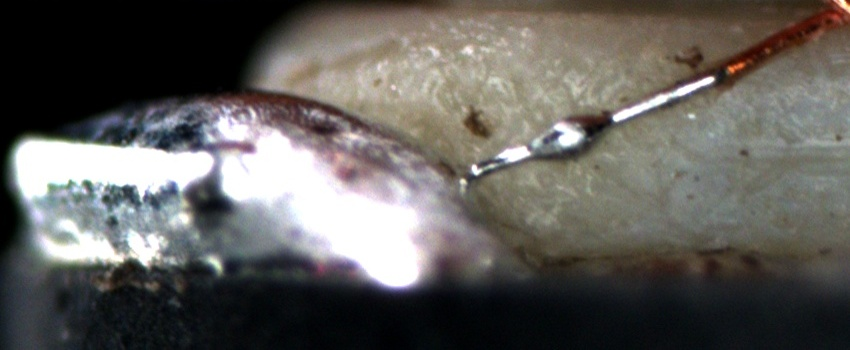DL: (683, 119, 850, 183)
TB: (525, 108, 631, 163)
TS: (464, 69, 727, 184)
TTCW: (464, 43, 766, 184)
